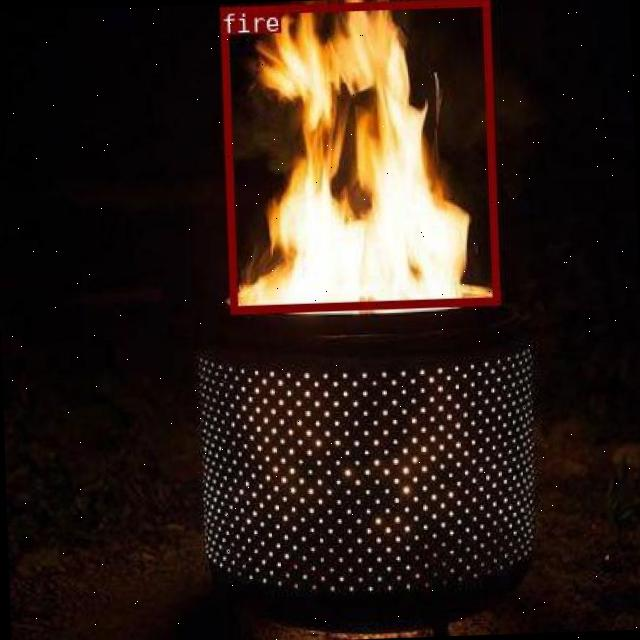fire: (217, 0, 497, 312)
